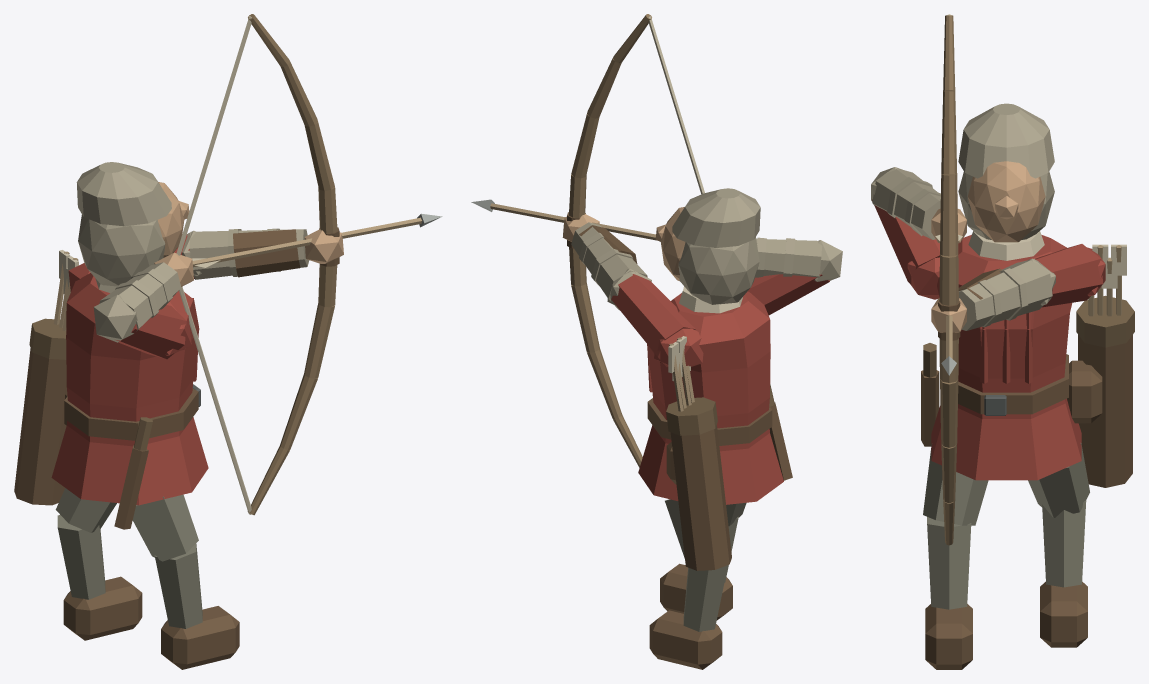
File: infantry_archer.glb
3 views of the same model, side by side, from view 1: azimuth 30°, elevation 25°; view 2: azimuth 150°, elevation 25°; view 3: azimuth 270°, elevation 25° (orthographic). The views are drawn at different scales.
Parts seen in each view (by area): view 1: infantry_archer_team_cloth, infantry_archer_leather, infantry_archer_padded_linen, infantry_archer_hose, infantry_archer_oak, infantry_archer_linen, infantry_archer_skin, infantry_archer_oak_light, infantry_archer_oak_dark; view 2: infantry_archer_team_cloth, infantry_archer_leather, infantry_archer_padded_linen, infantry_archer_oak, infantry_archer_hose, infantry_archer_linen, infantry_archer_oak_light, infantry_archer_oak_dark, infantry_archer_skin; view 3: infantry_archer_team_cloth, infantry_archer_leather, infantry_archer_padded_linen, infantry_archer_hose, infantry_archer_oak, infantry_archer_skin, infantry_archer_oak_dark, infantry_archer_linen, infantry_archer_oak_light, infantry_archer_iron.
Boxes of the visible parts, left/top/right/bottom form: infantry_archer_team_cloth: left=51, top=234, right=208, bottom=505; infantry_archer_leather: left=14, top=227, right=339, bottom=669; infantry_archer_padded_linen: left=76, top=162, right=309, bottom=342; infantry_archer_hose: left=55, top=488, right=202, bottom=628; infantry_archer_oak: left=247, top=14, right=337, bottom=515; infantry_archer_linen: left=59, top=16, right=251, bottom=514; infantry_archer_skin: left=154, top=182, right=343, bottom=286; infantry_archer_oak_light: left=53, top=217, right=421, bottom=331; infantry_archer_oak_dark: left=29, top=318, right=152, bottom=450; infantry_archer_team_cloth: left=611, top=274, right=829, bottom=504; infantry_archer_leather: left=567, top=212, right=792, bottom=669; infantry_archer_padded_linen: left=571, top=188, right=842, bottom=310; infantry_archer_oak: left=569, top=14, right=651, bottom=467; infantry_archer_hose: left=665, top=499, right=746, bottom=631; infantry_archer_linen: left=648, top=16, right=742, bottom=381; infantry_archer_oak_light: left=490, top=203, right=694, bottom=411; infantry_archer_oak_dark: left=666, top=384, right=774, bottom=435; infantry_archer_skin: left=562, top=207, right=685, bottom=281; infantry_archer_team_cloth: left=872, top=199, right=1105, bottom=480; infantry_archer_leather: left=921, top=268, right=1132, bottom=669; infantry_archer_padded_linen: left=871, top=103, right=1055, bottom=330; infantry_archer_hose: left=923, top=443, right=1089, bottom=609; infantry_archer_oak: left=939, top=15, right=958, bottom=545; infantry_archer_skin: left=931, top=161, right=1045, bottom=332; infantry_archer_oak_dark: left=923, top=295, right=1134, bottom=377; infantry_archer_linen: left=935, top=14, right=1126, bottom=288; infantry_archer_oak_light: left=946, top=245, right=1121, bottom=358; infantry_archer_iron: left=984, top=395, right=1006, bottom=415.
Bounding box in the file's own units: 1.43 × 2.32 × 0.8269.
